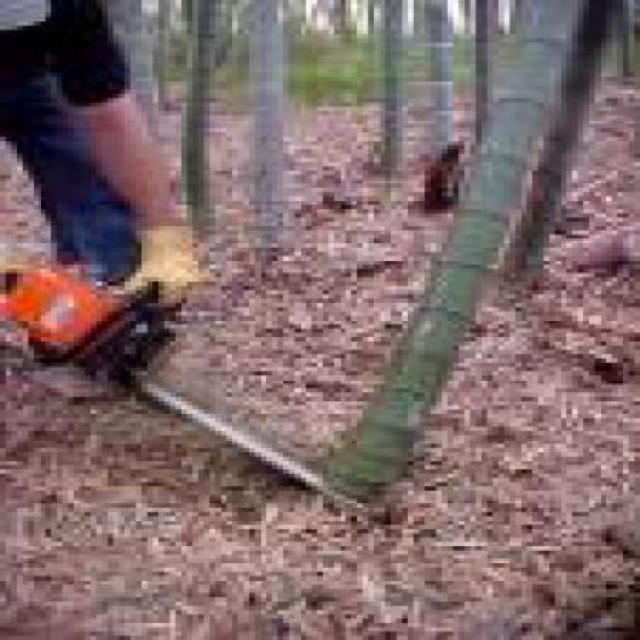Chainsaw: (3, 254, 369, 515)
